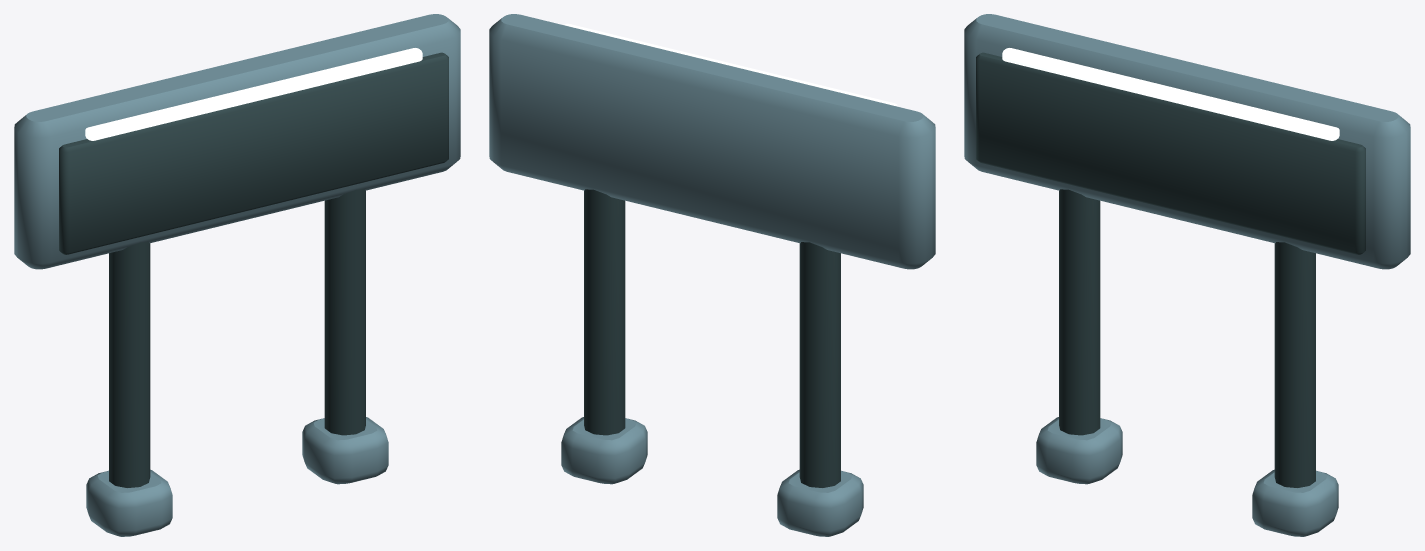
Rendered from sign_1.glb.
3 renders of one model, left to right at view 1: azimuth 30°, elevation 25°; view 2: azimuth 150°, elevation 25°; view 3: azimuth 330°, elevation 25°, orthographic.
Visible parts, largest first — view 1: Sign; view 2: Sign; view 3: Sign.
Boxes of the visible parts, x1=… form: Sign: x1=14, y1=14, x2=460, y2=536; Sign: x1=489, y1=14, x2=935, y2=536; Sign: x1=964, y1=14, x2=1410, y2=536.
Size of the model in its own units: 2.4 by 2.24 by 0.3765.
